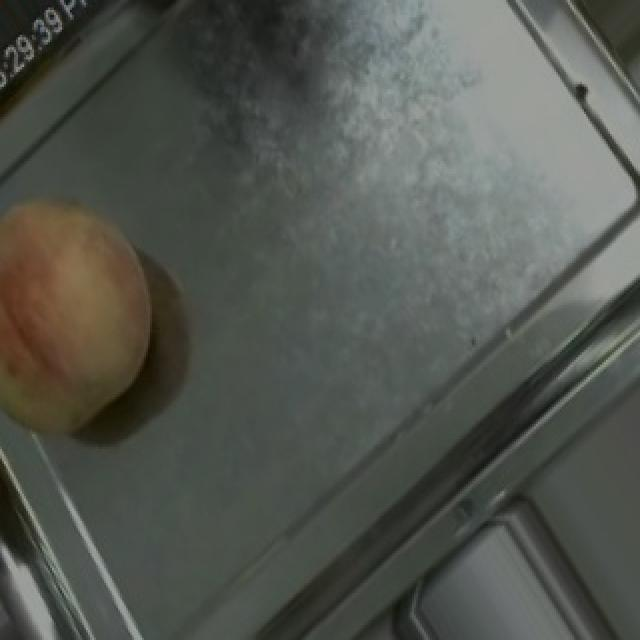Fruit: (0, 154, 194, 471)
